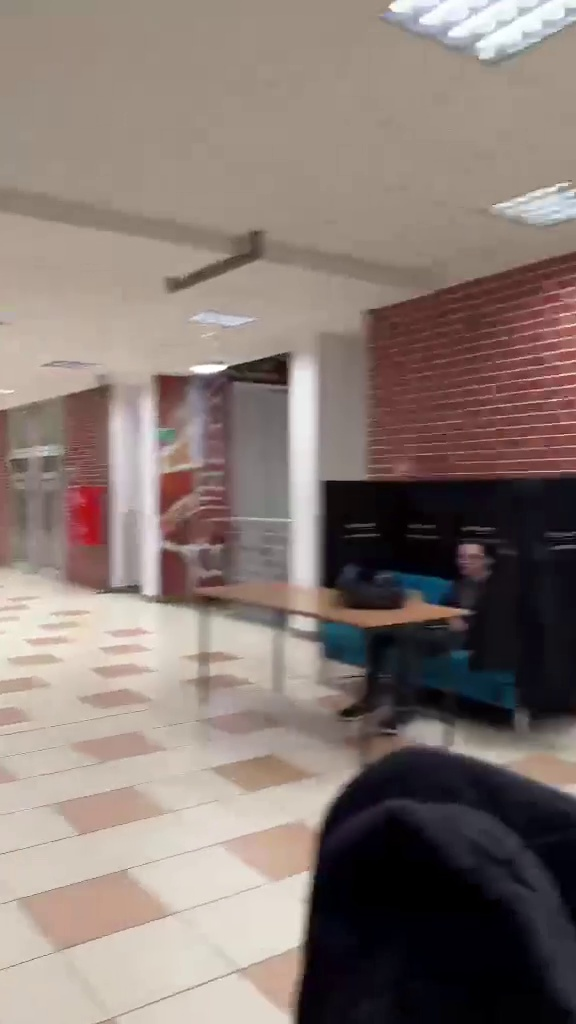no vest: (371, 527, 489, 714)
